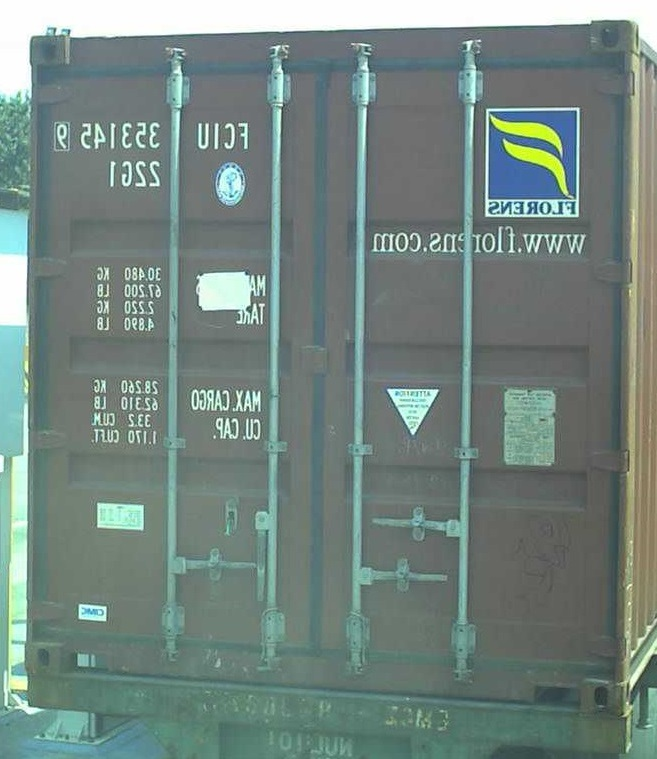container_door: (29, 18, 632, 719)
